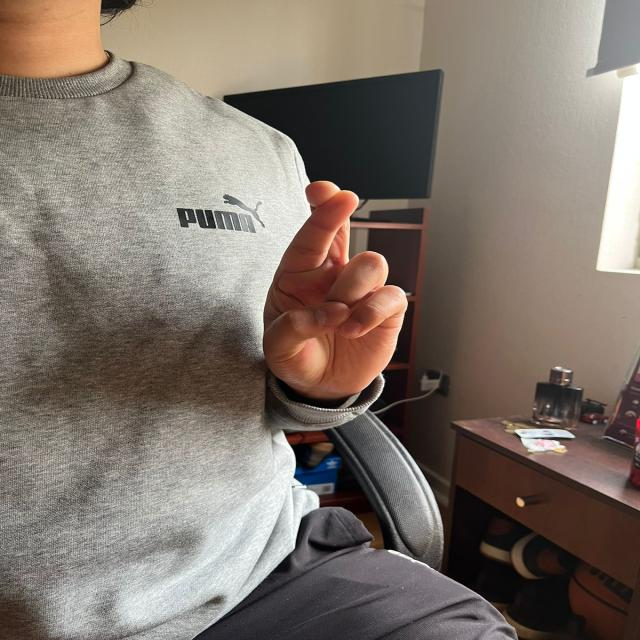R: (256, 176, 412, 392)
